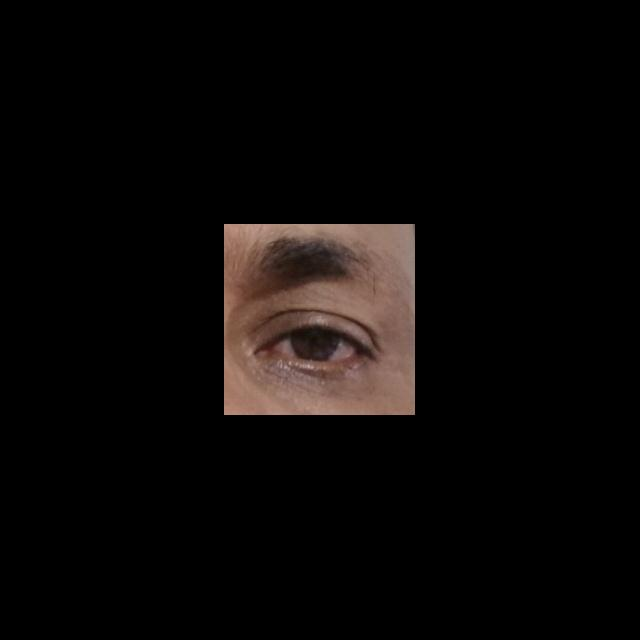eye: (270, 328, 357, 363)
iris: (291, 330, 341, 361)
